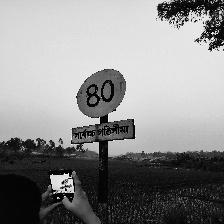Speed-limit: (71, 68, 135, 143)
